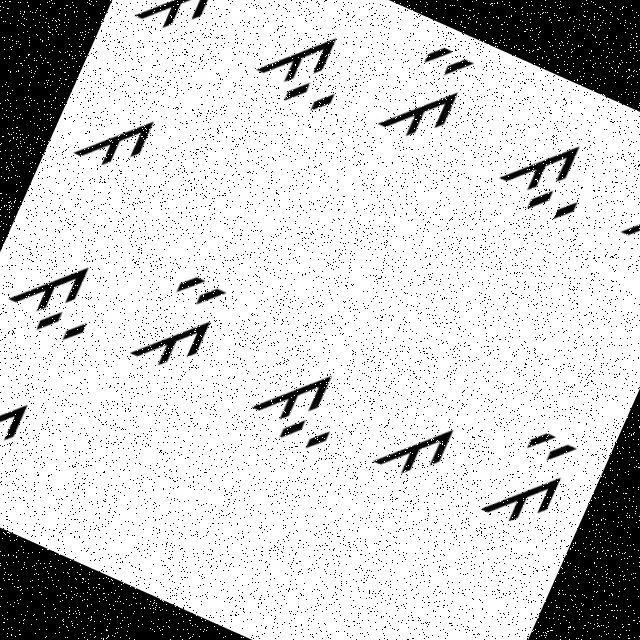ka: (346, 384, 466, 512), (56, 79, 169, 195), (0, 359, 46, 486), (600, 158, 639, 283)
kah: (0, 214, 124, 372), (232, 329, 364, 474), (476, 102, 608, 244), (233, 0, 366, 139)
kan: (114, 247, 248, 402), (460, 396, 590, 544), (370, 27, 480, 162), (124, 0, 246, 55)
